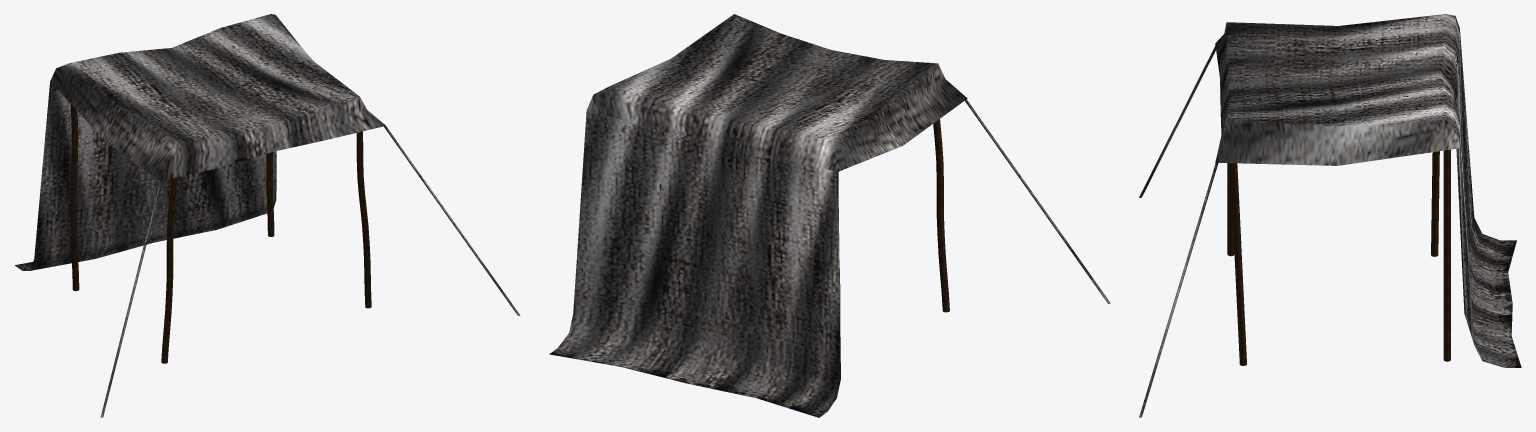
File: Tent 3.fbx
3 renders of one model, left to right at view 1: azimuth 30°, elevation 25°; view 2: azimuth 150°, elevation 25°; view 3: azimuth 270°, elevation 25°, orthographic. The views are drawn at different scales.
Visible parts, largest first — view 1: Tent 3; view 2: Tent 3; view 3: Tent 3.
Part boxes in pixels (x1,y1,x2,y2): Tent 3: (15,14,520,417); Tent 3: (549,14,1110,417); Tent 3: (1139,14,1521,417).
Size of the model in its own units: 4.81 by 2.47 by 3.52.
